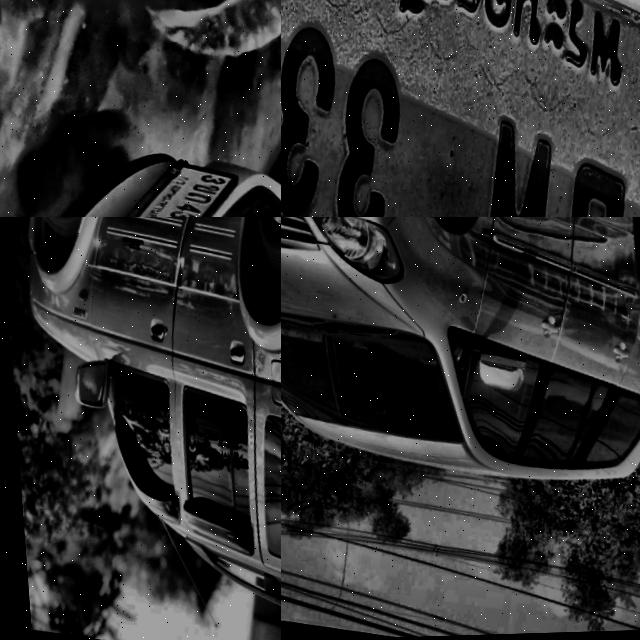license-plate: (281, 0, 640, 217), (179, 7, 281, 172)
